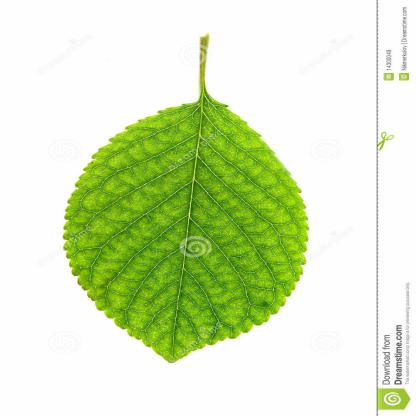apple leaf: (56, 87, 321, 378)
